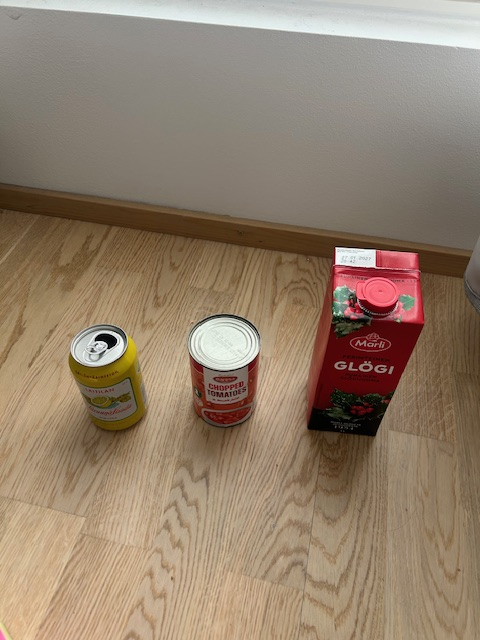Dryckeskartong: (306, 246, 425, 437)
Konservburk: (186, 312, 261, 428)
Pantburk: (68, 323, 148, 431)
